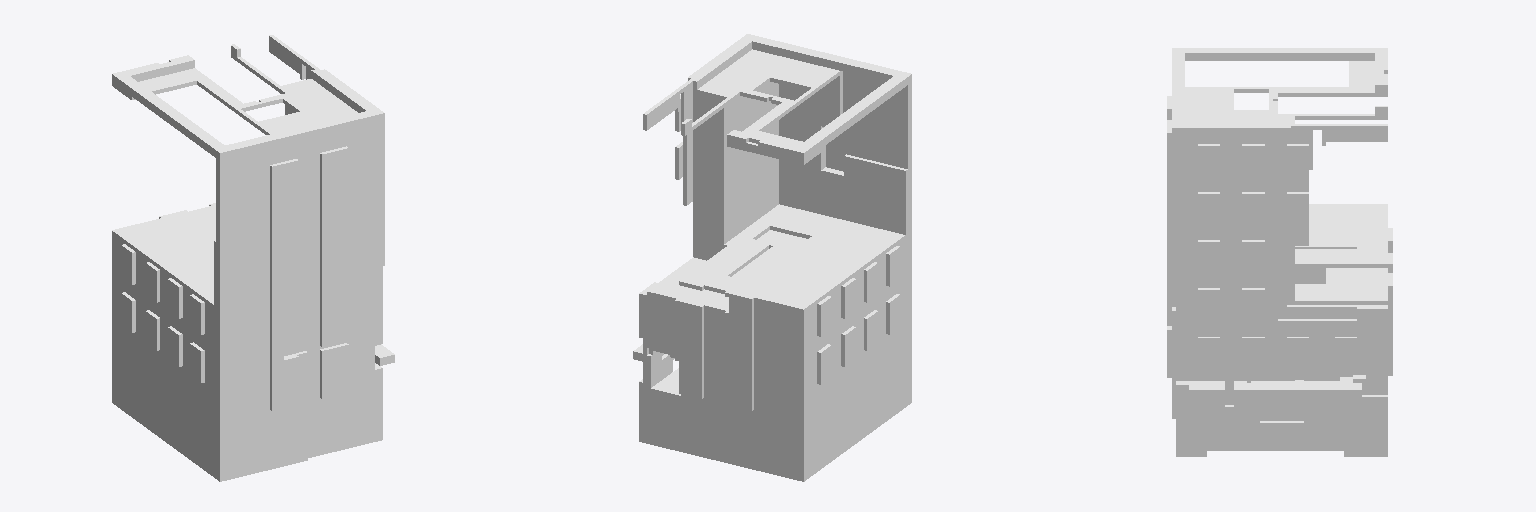
File: rebuild_1.1.obj
The picture shows the model from 3 angles: view 1: azimuth 30°, elevation 25°; view 2: azimuth 150°, elevation 25°; view 3: azimuth 270°, elevation 25°; orthographic projection.
Bounding box in the file's own units: 49 × 82 × 51.